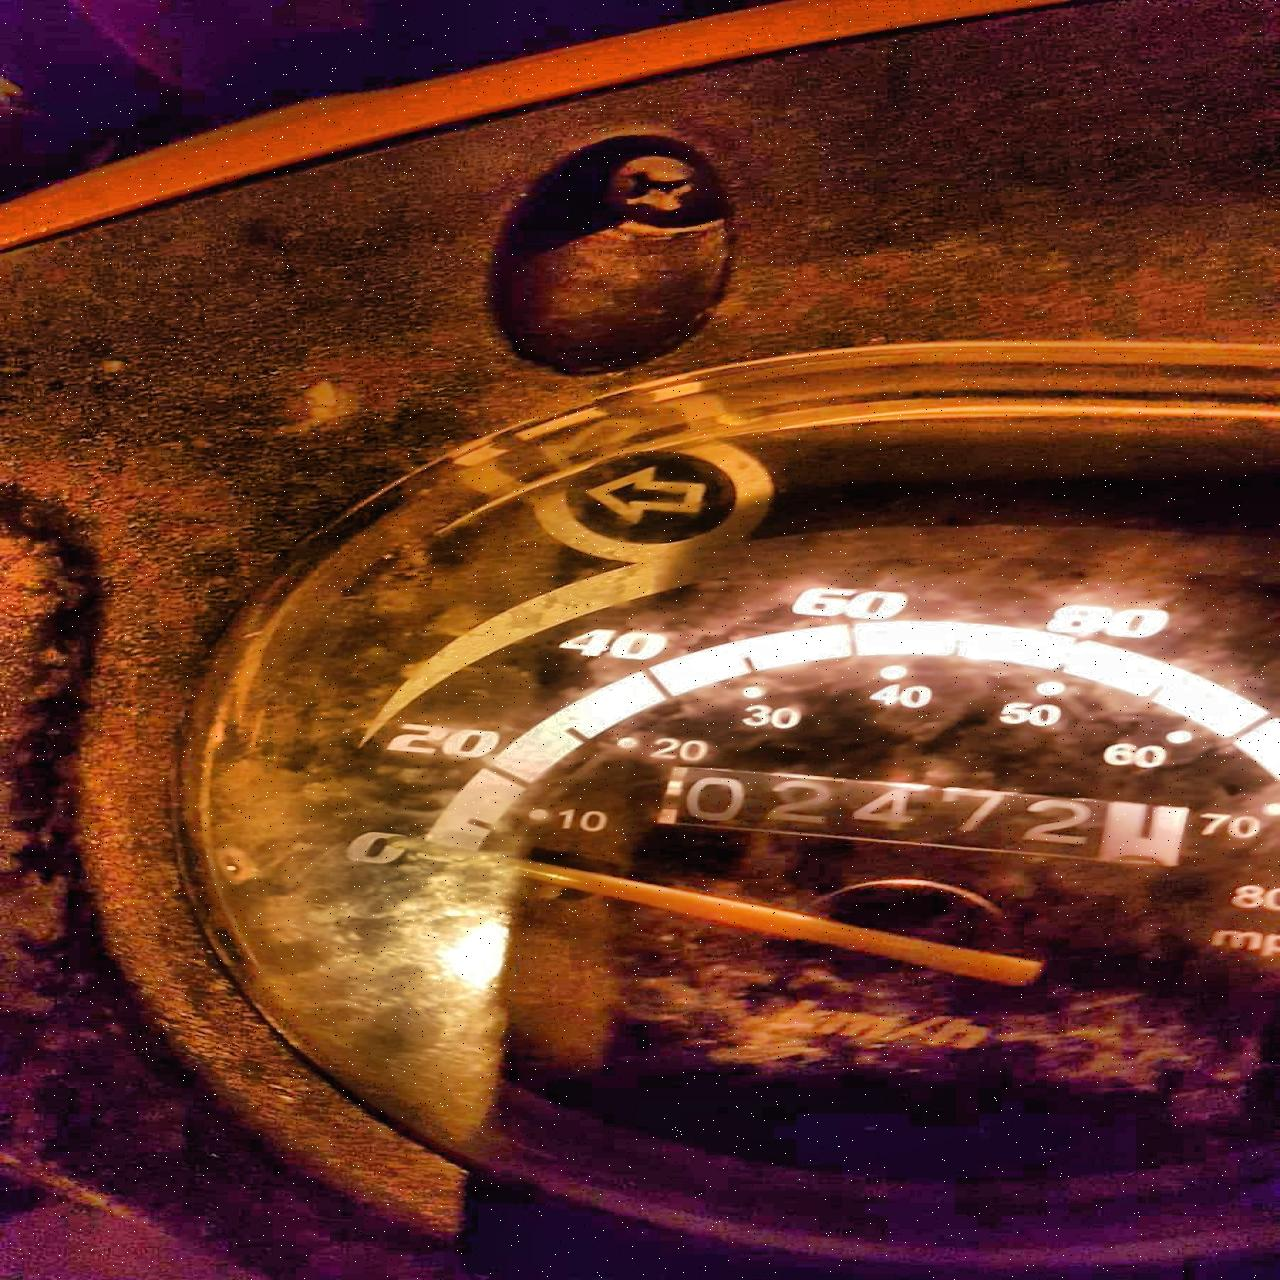0: (687, 772, 741, 822)
1: (1125, 795, 1162, 840)
2: (1027, 795, 1094, 850), (765, 775, 826, 826)
4: (850, 784, 919, 829)
7: (940, 783, 1008, 844)
odometer: (644, 764, 1196, 872)
